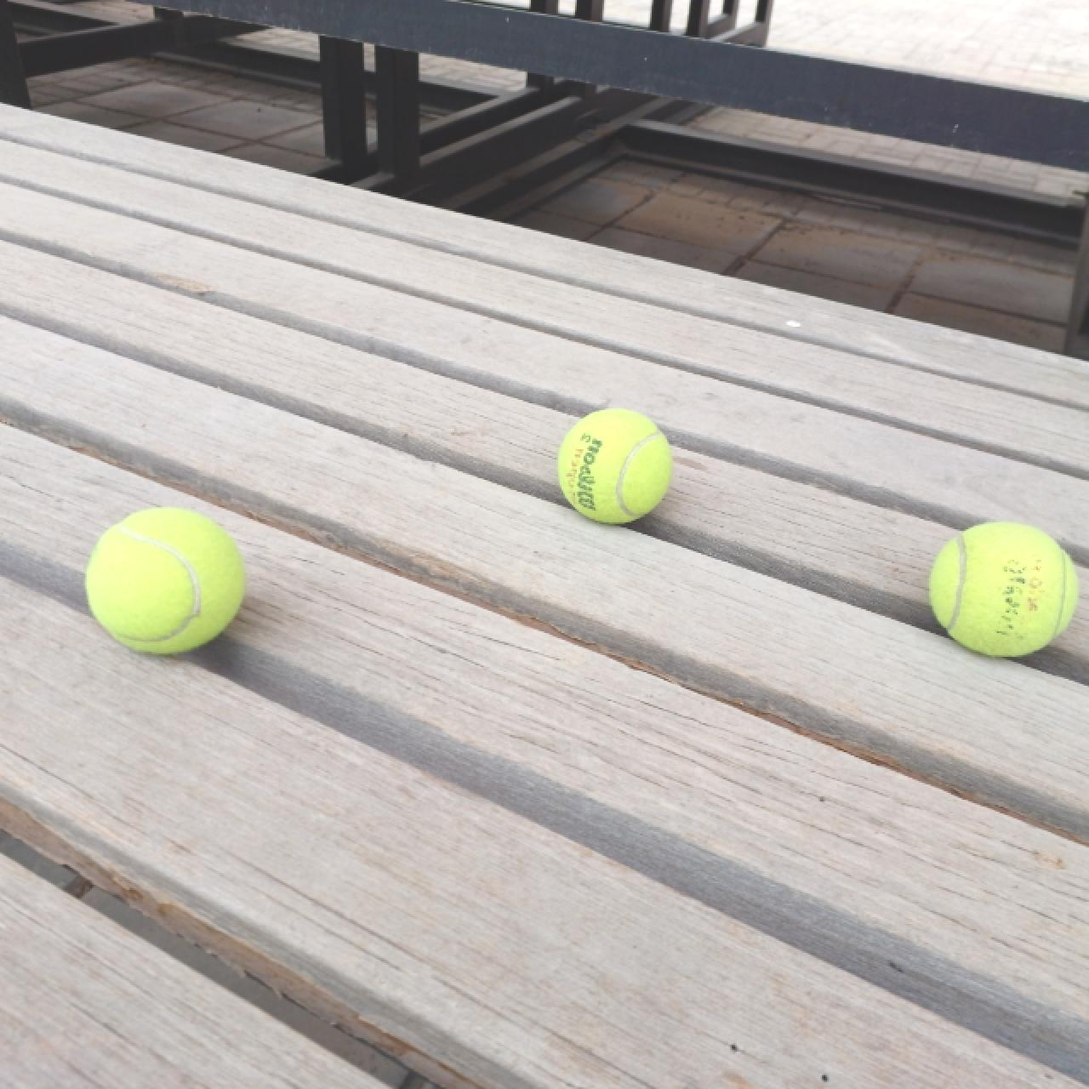tennis-ball: (84, 504, 249, 657), (928, 520, 1080, 658), (557, 405, 674, 525)
